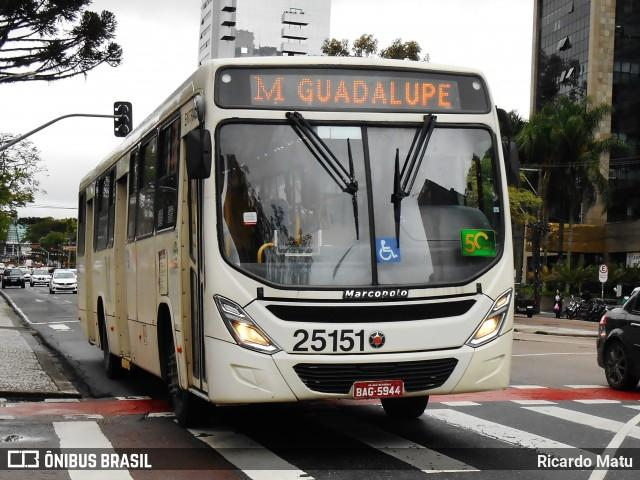GUADALUPE: (295, 75, 455, 111)
